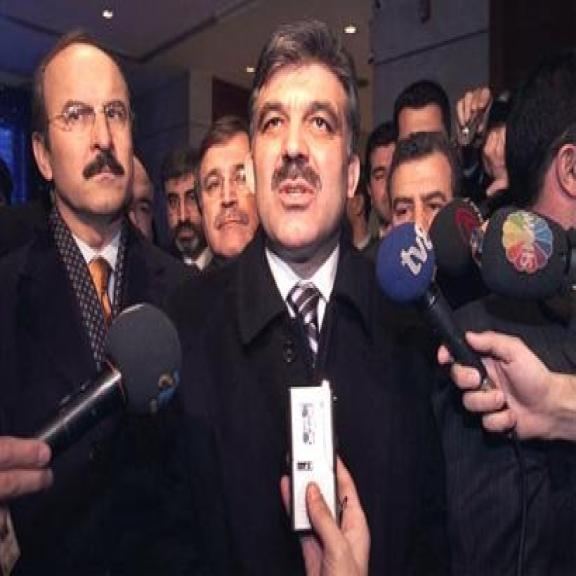face: (242, 67, 363, 258), (27, 56, 136, 217), (196, 140, 256, 259), (380, 168, 460, 255), (164, 171, 204, 250)
